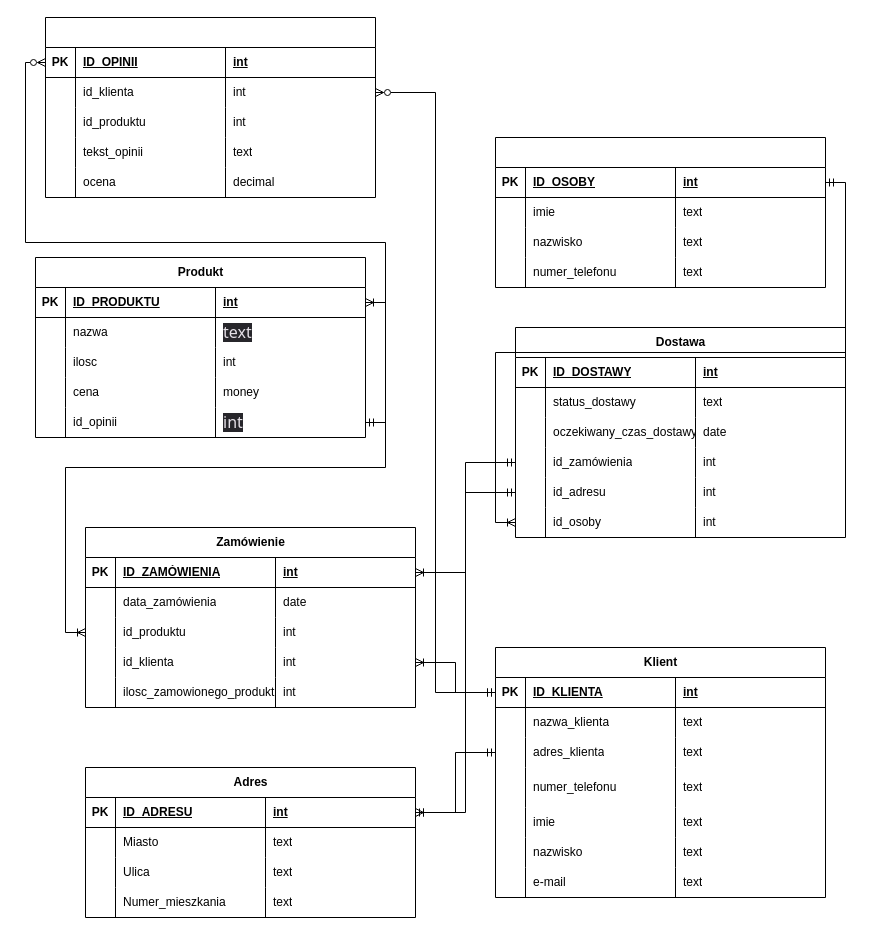
Image size: 872x935. Some labels were removed from this diagram. The box of each missing label's shape, as (x1, y1, x2, y2) in pixels:
Opinia: (44, 16, 376, 198)
Osoba: (494, 136, 826, 288)
